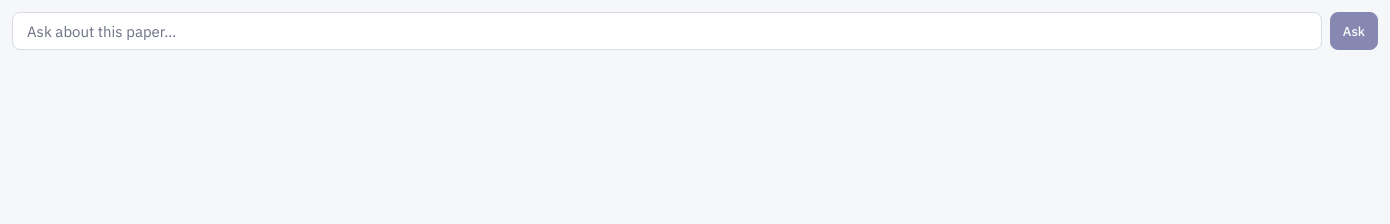
AskPanel › keeps earlier question and answer pairs
This screenshot has width=1390, height=224.
Type "First question?" into the field named "Question about this paper" at (667, 31), box x1=12 y1=12 x2=1322 y2=50
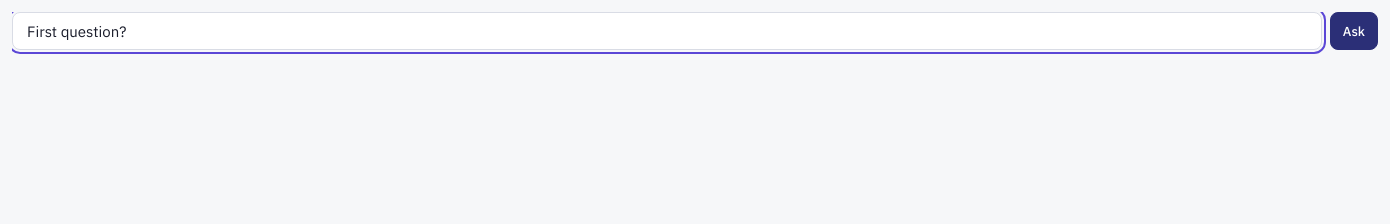
Click the button "Ask" at (1354, 31), box x1=1330 y1=12 x2=1378 y2=50
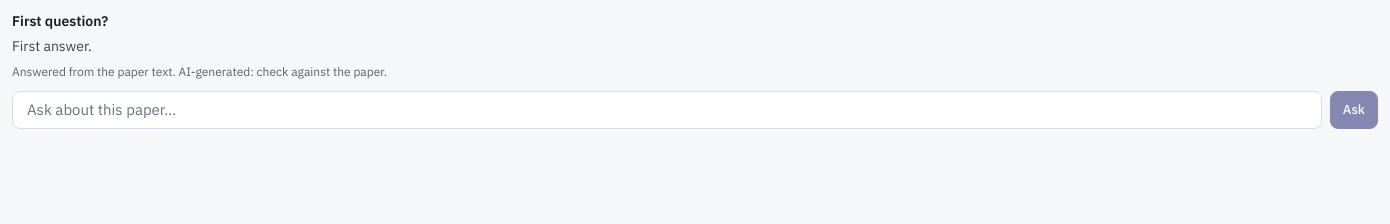
Expected: the text "First answer." is shown, x1=12 y1=37 x2=92 y2=55
Type "Second question?" into the field named "Question about this paper" at (667, 110), box x1=12 y1=91 x2=1322 y2=129
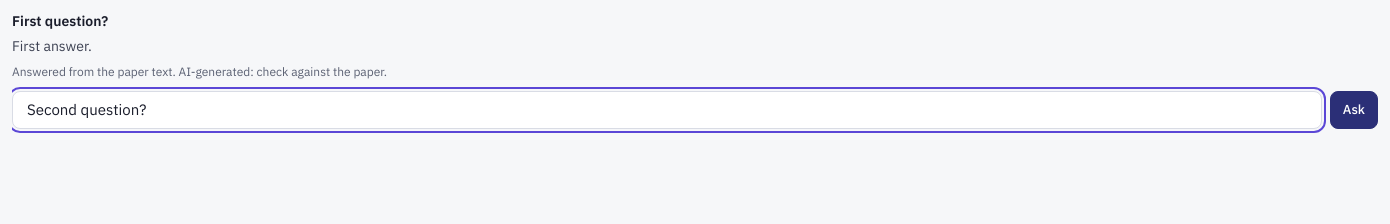
Click the button "Ask" at (1354, 110), box x1=1330 y1=91 x2=1378 y2=129
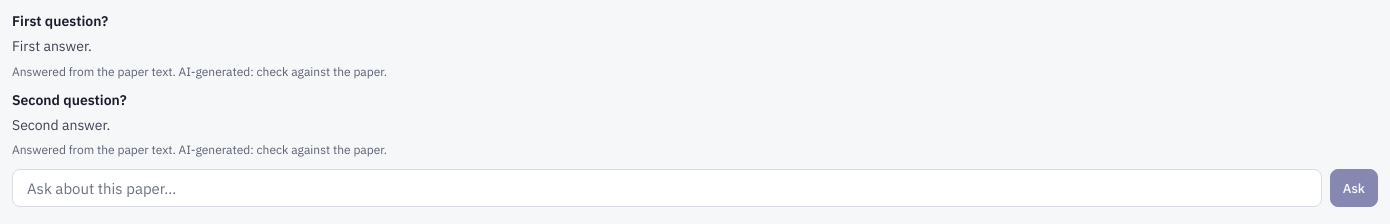
Expected: the text "First answer." is shown, x1=12 y1=37 x2=92 y2=55
Expected: the text "Second answer." is shown, x1=12 y1=116 x2=110 y2=134
